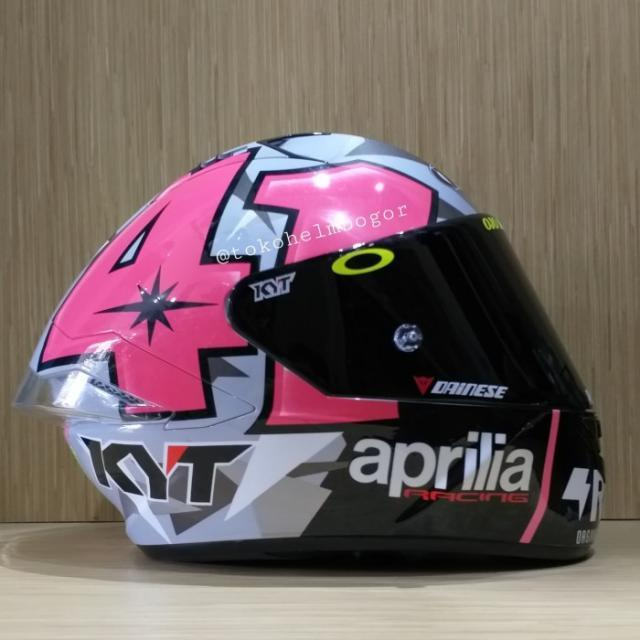Helm: (9, 125, 605, 568)
